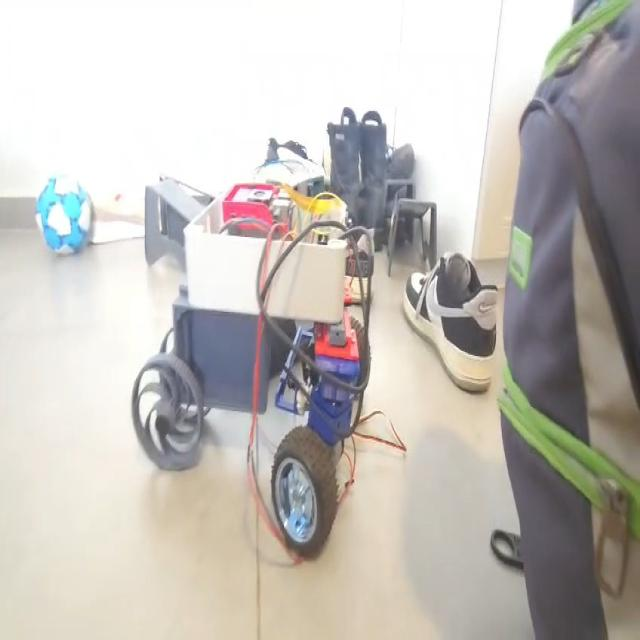Robot: (125, 159, 376, 568)
